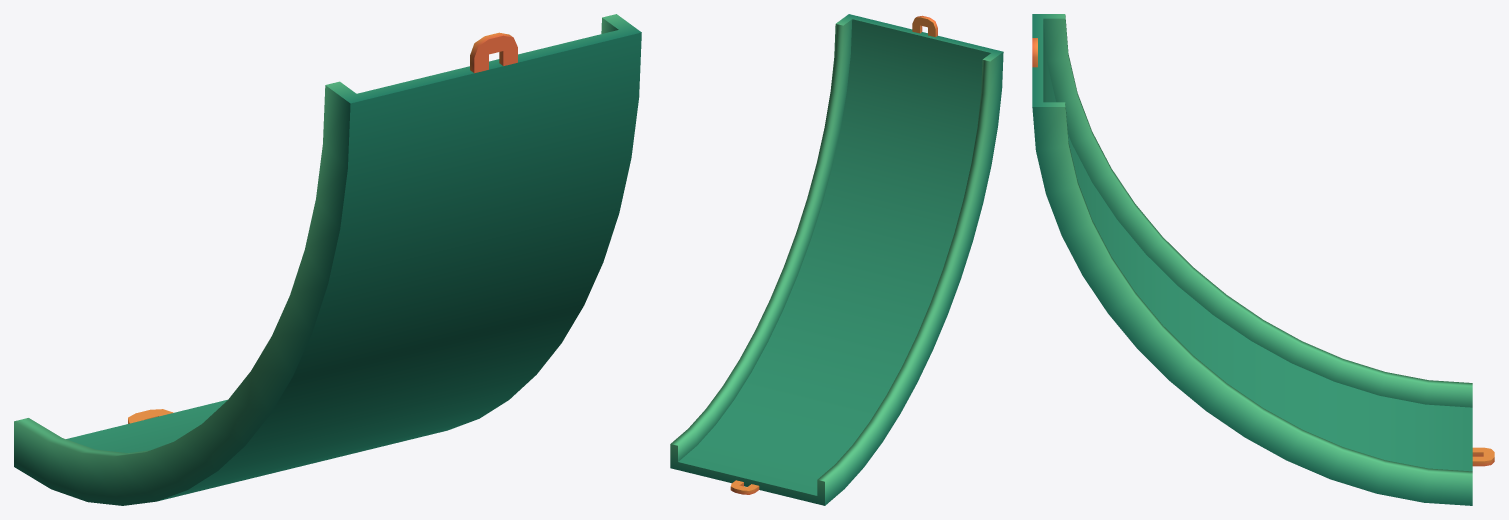
The model's file is track-wide-straight-bend-large.fbx.
3 renders of one model, left to right at view 1: azimuth 30°, elevation 25°; view 2: azimuth 150°, elevation 25°; view 3: azimuth 270°, elevation 25°, orthographic. The views are drawn at different scales.
Parts seen in each view (by area): view 1: track-wide-straight-bend-large; view 2: track-wide-straight-bend-large; view 3: track-wide-straight-bend-large.
Part boxes in pixels (x1=…): track-wide-straight-bend-large: x1=14, y1=14, x2=641, y2=505; track-wide-straight-bend-large: x1=670, y1=14, x2=1003, y2=505; track-wide-straight-bend-large: x1=1032, y1=14, x2=1494, y2=505.
Bounding box in the file's own units: 200 × 420 × 420.
